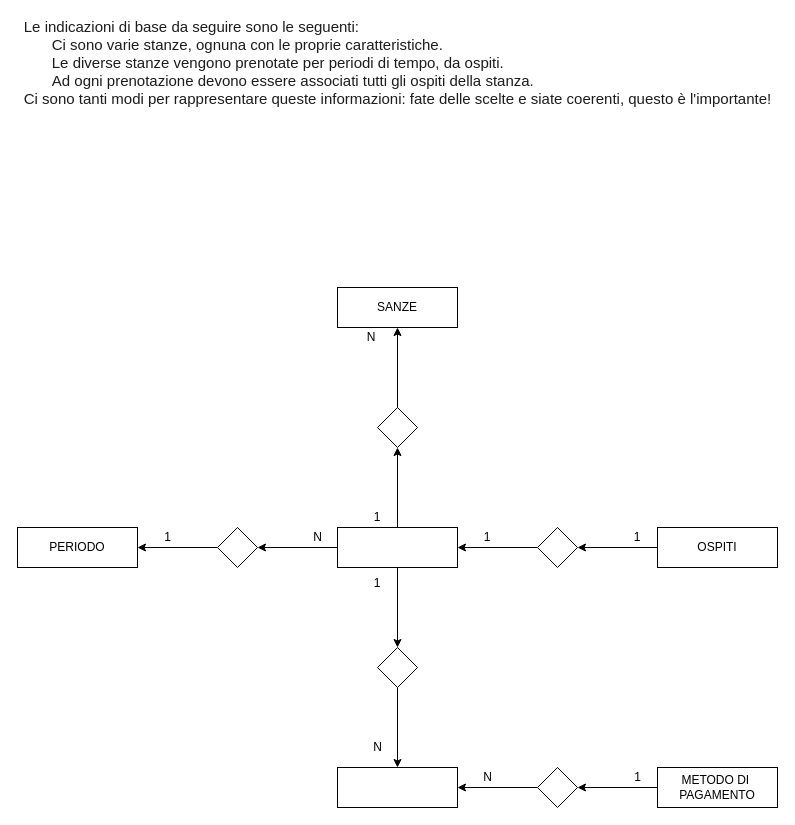
This 795x825 diagram has some shape labels left out. The shapes that lost their labels are listed below. From the top down, each one's centre as x and y in pixels, then its label:
[397,547]: PRENOTAZIONI
[397,787]: PAGAMENTO
